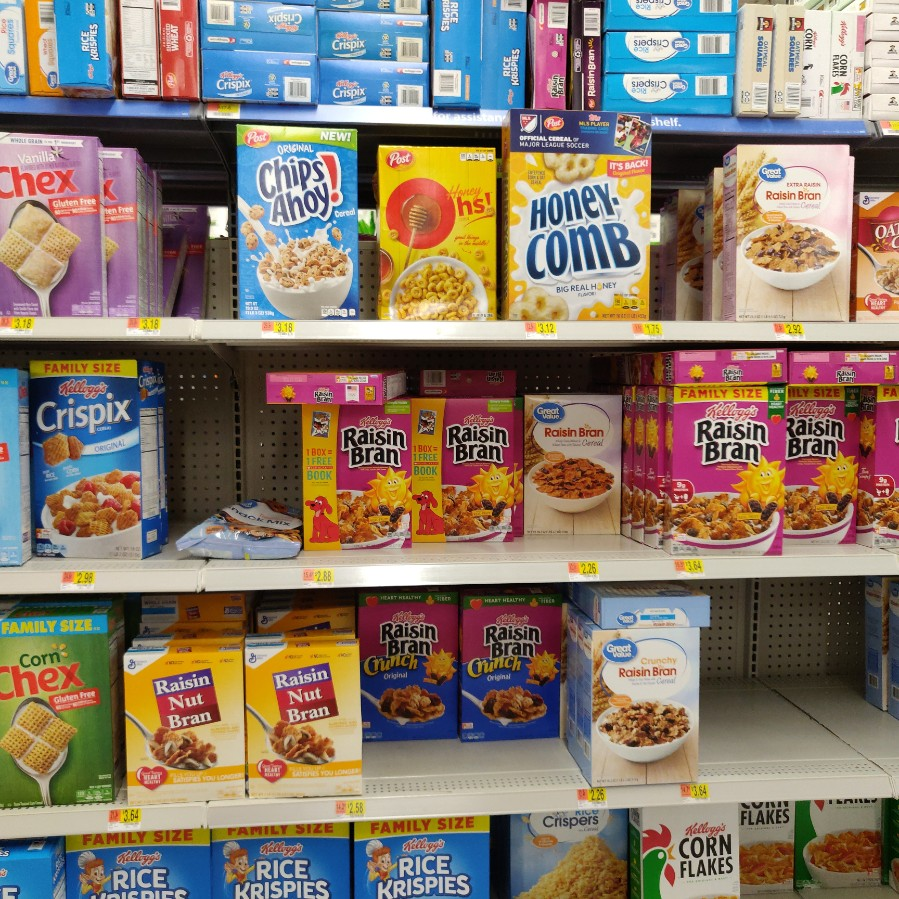Chips Ahoys-565717529: (230, 116, 366, 320)
Honey Comb- 009288857: (508, 109, 654, 322)
